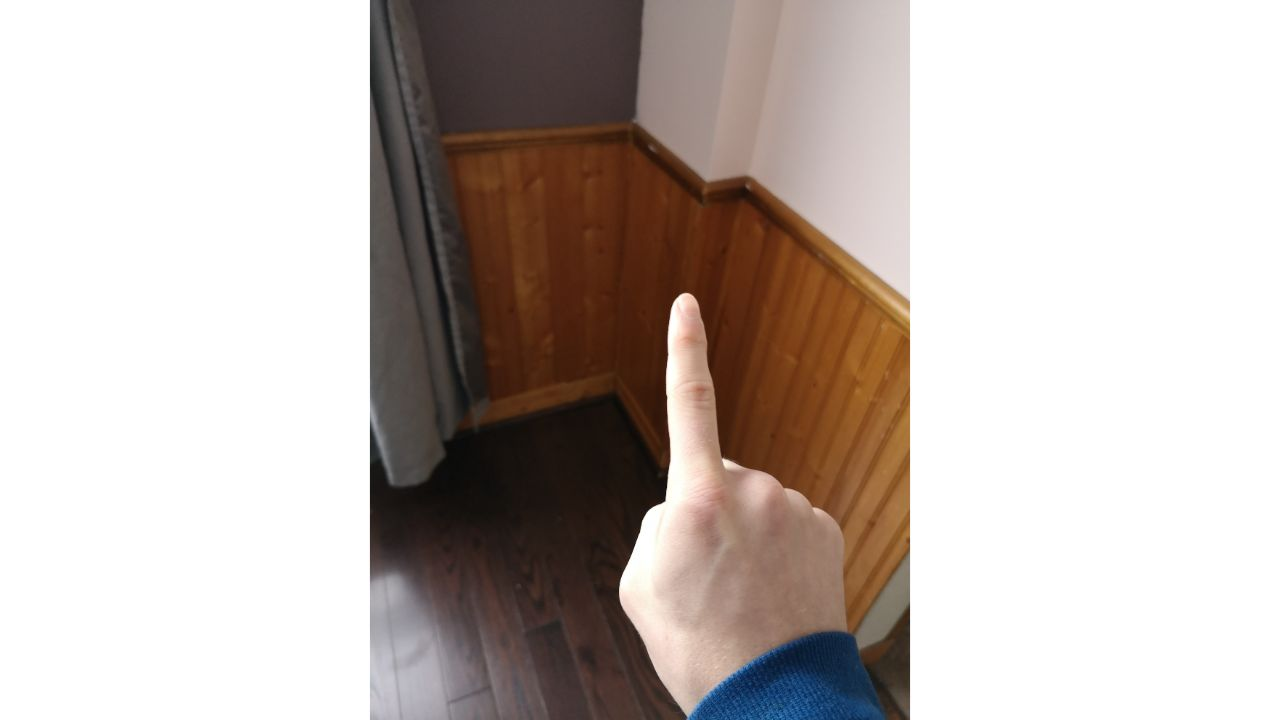finger: (622, 273, 852, 713)
